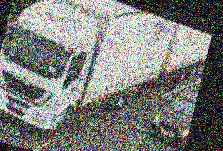truck: (0, 0, 215, 151)
